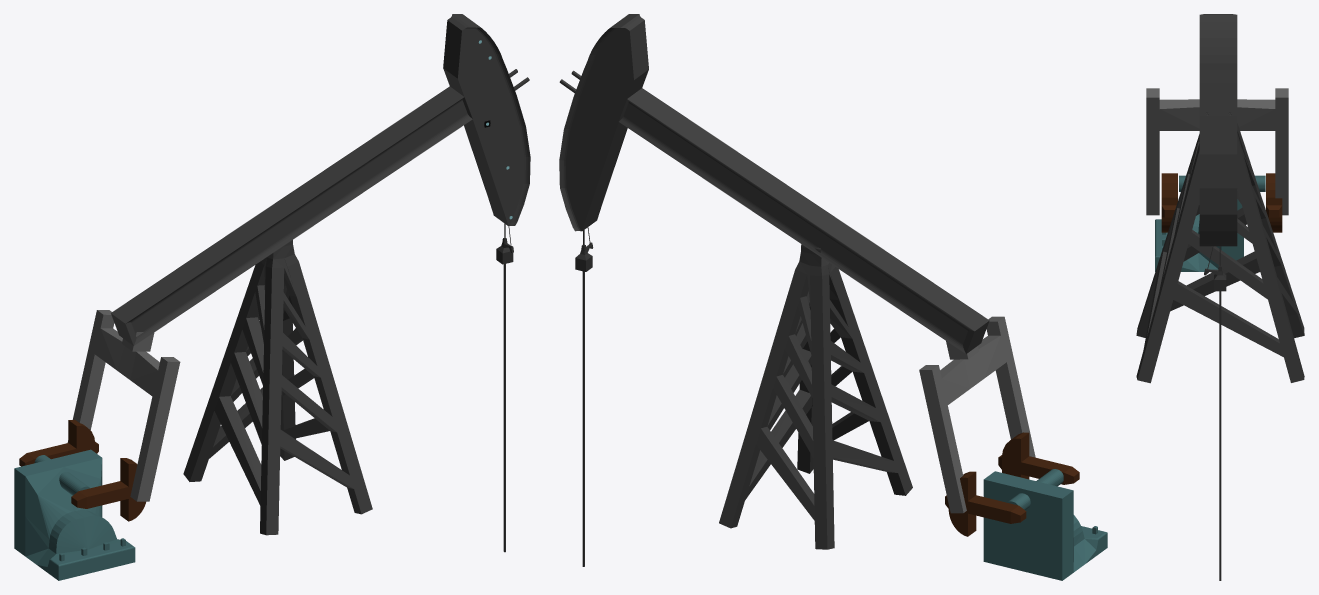
Rendered from OilJack.fbx.
3 renders of one model, left to right at view 1: azimuth 30°, elevation 25°; view 2: azimuth 150°, elevation 25°; view 3: azimuth 270°, elevation 25°, orthographic. The views are drawn at different scales.
Parts seen in each view (by area): view 1: JunkArm, OiJackGround, OilJackMotor, Bone01, ScytheMotor, boneFront02; view 2: JunkArm, OiJackGround, OilJackMotor, Bone01, ScytheMotor, boneFront02; view 3: OiJackGround, JunkArm, Bone01, ScytheMotor, OilJackMotor, boneFront02.
Part boxes in pixels (bbox=[...]): JunkArm: bbox=[111, 14, 530, 345]; OiJackGround: bbox=[183, 240, 372, 535]; OilJackMotor: bbox=[14, 449, 135, 580]; Bone01: bbox=[67, 310, 180, 501]; ScytheMotor: bbox=[19, 419, 145, 521]; boneFront02: bbox=[496, 223, 513, 552]; JunkArm: bbox=[559, 14, 989, 353]; OiJackGround: bbox=[719, 244, 912, 549]; OilJackMotor: bbox=[983, 469, 1107, 580]; Bone01: bbox=[919, 316, 1035, 513]; ScytheMotor: bbox=[945, 432, 1079, 536]; boneFront02: bbox=[575, 227, 593, 566]; OiJackGround: bbox=[1136, 123, 1304, 383]; JunkArm: bbox=[1199, 14, 1237, 246]; Bone01: bbox=[1146, 88, 1288, 215]; ScytheMotor: bbox=[1161, 173, 1282, 232]; OilJackMotor: bbox=[1155, 175, 1265, 271]; boneFront02: bbox=[1204, 246, 1226, 580].
Bounding box in the file's own units: 1294 × 1351 × 378.
